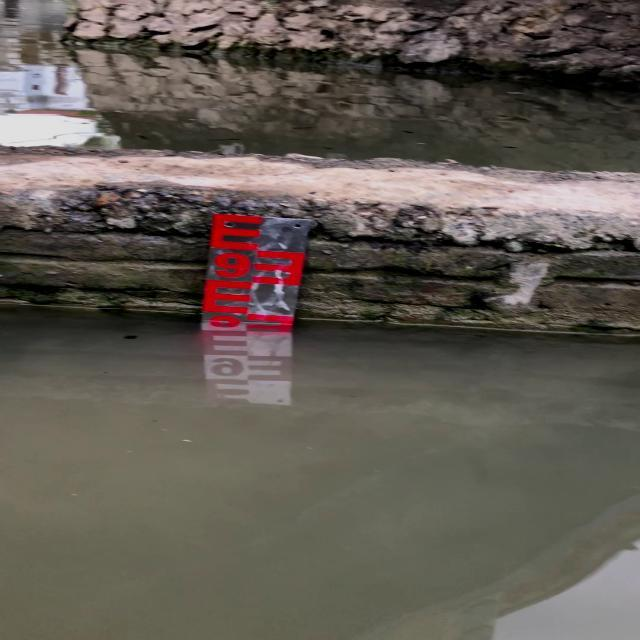ruler: (192, 203, 318, 336)
value: (207, 247, 253, 285)
